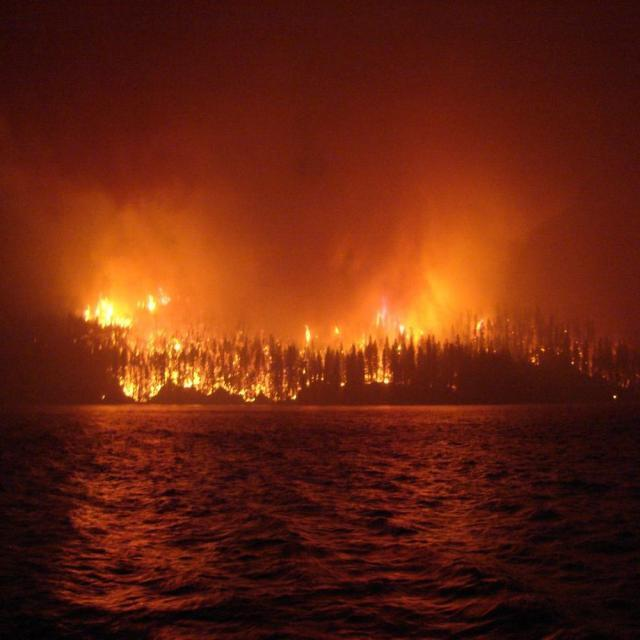Fire: (82, 289, 130, 327), (220, 372, 274, 400), (173, 366, 220, 396), (356, 354, 394, 388), (369, 296, 402, 331), (114, 364, 143, 402), (136, 289, 180, 313), (142, 365, 166, 396)
Smoke: (30, 18, 620, 296)
